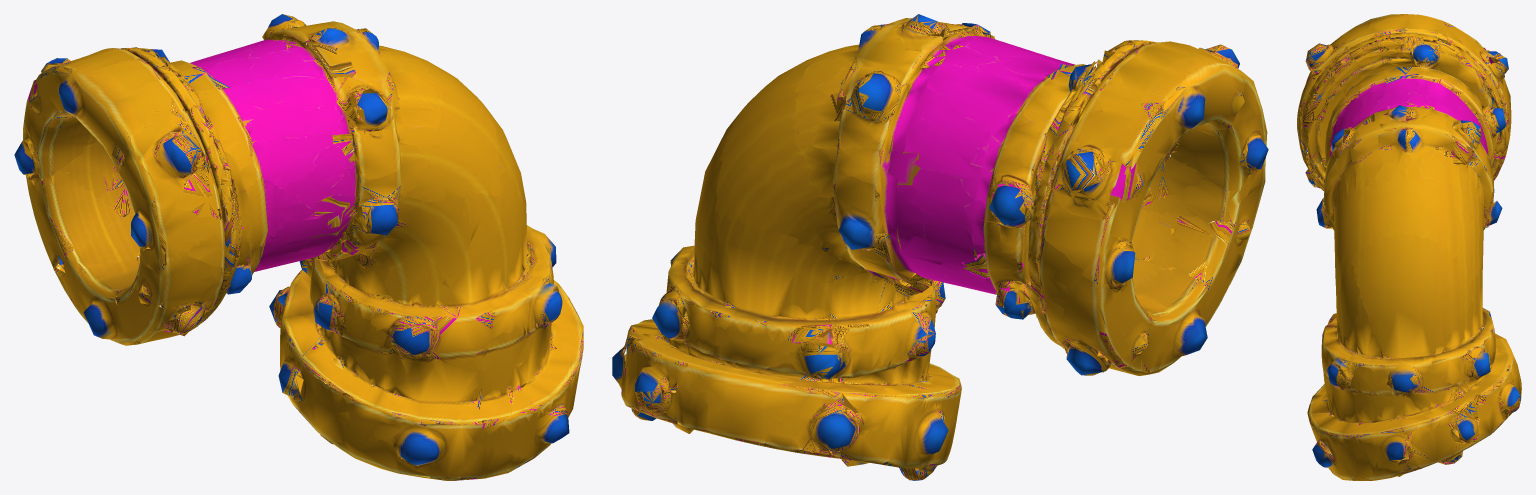
Rendered from Curved_Golden_Pipe_Claudia_Small.glb.
3 renders of one model, left to right at view 1: azimuth 30°, elevation 25°; view 2: azimuth 150°, elevation 25°; view 3: azimuth 270°, elevation 25°, orthographic. The views are drawn at different scales.
Visible parts, largest first — view 1: world; view 2: world; view 3: world.
Part boxes in pixels (x1=…): world: x1=14, y1=14, x2=583, y2=480; world: x1=612, y1=14, x2=1268, y2=480; world: x1=1297, y1=14, x2=1521, y2=480.
Size of the model in its own units: 1.9 by 1.63 by 1.01.
Materials: 1 (1 with a texture image).
